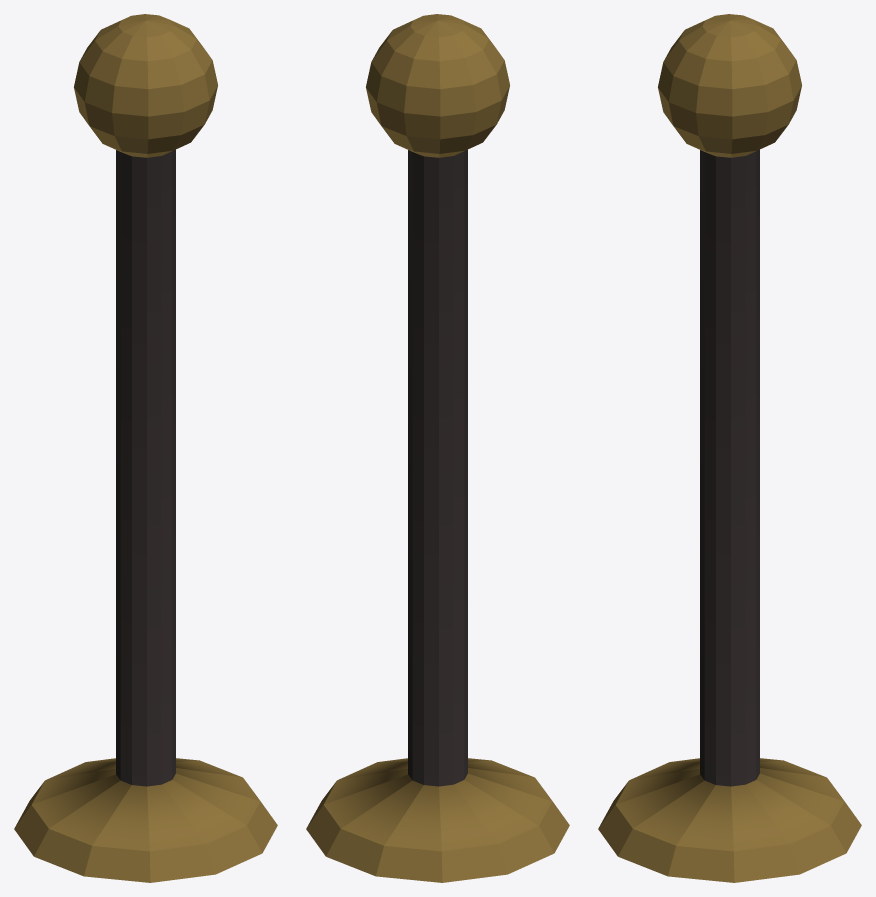
File: TEMP_Velvet_Rope_Pole.fbx
3 renders of one model, left to right at view 1: azimuth 30°, elevation 25°; view 2: azimuth 150°, elevation 25°; view 3: azimuth 270°, elevation 25°, orthographic.
Visible parts, largest first — view 1: Velvet_Rope_pole; view 2: Velvet_Rope_pole; view 3: Velvet_Rope_pole.
Part boxes in pixels (x1,y1,x2,y2): Velvet_Rope_pole: [14, 14, 277, 882]; Velvet_Rope_pole: [306, 14, 569, 882]; Velvet_Rope_pole: [598, 14, 861, 882].
Bounding box in the file's own units: 1.69 × 5.69 × 1.69.
